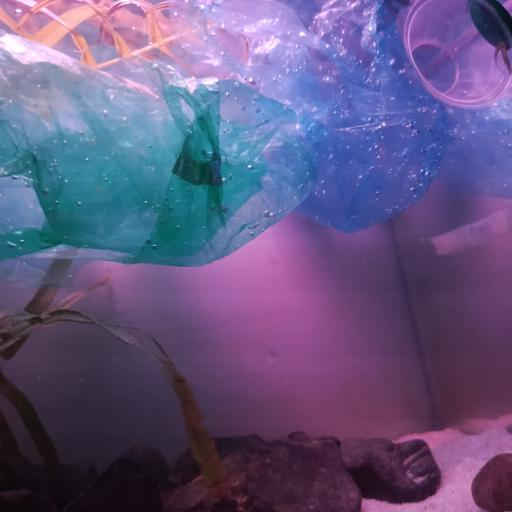bottle_cap: (468, 0, 512, 49)
plastic_bag: (168, 0, 512, 235), (0, 32, 310, 280)
plastic_cup: (403, 0, 512, 109)
